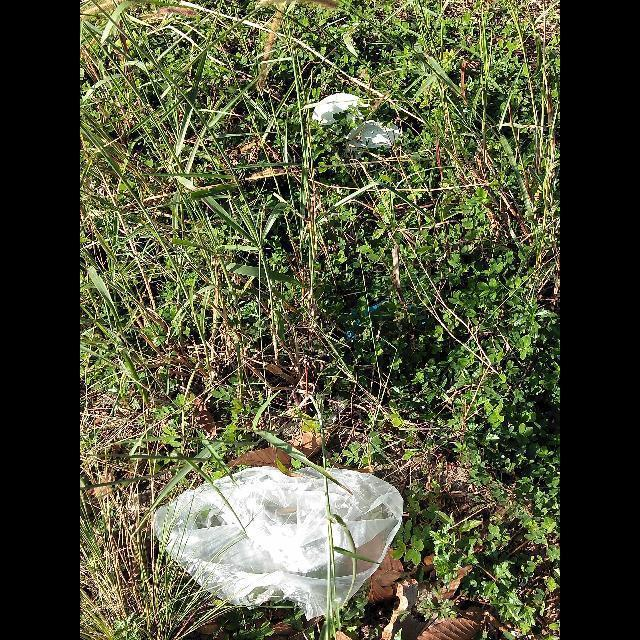Plastic: (154, 467, 403, 621)
